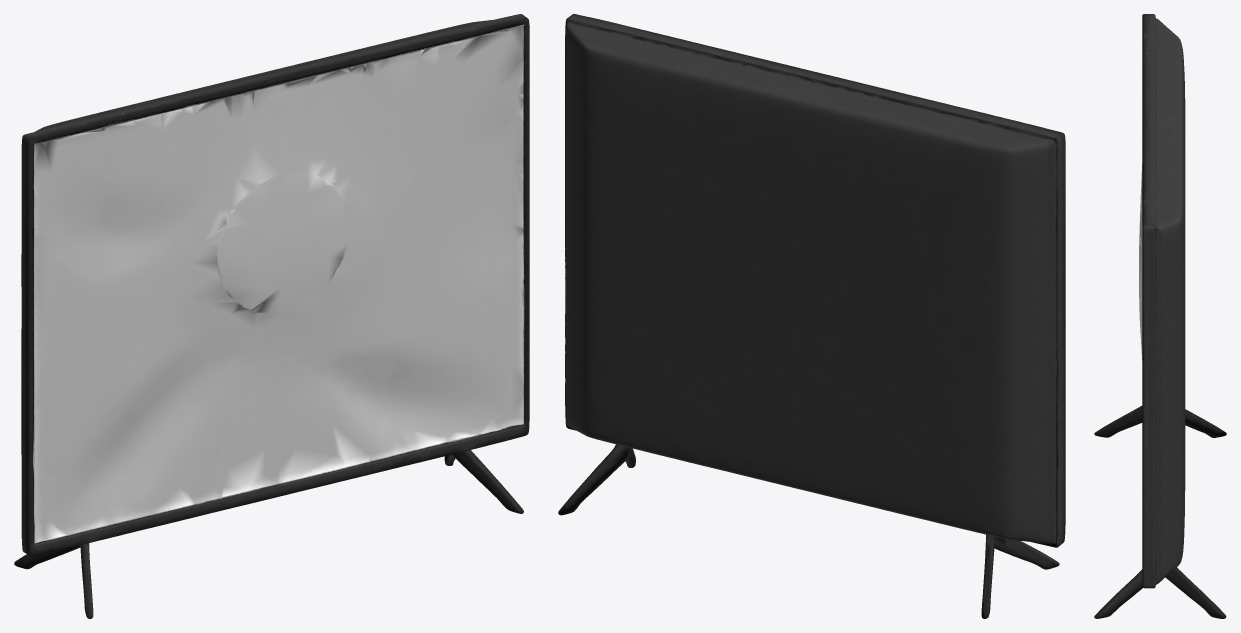
3 views of the same model, side by side, from view 1: azimuth 30°, elevation 25°; view 2: azimuth 150°, elevation 25°; view 3: azimuth 270°, elevation 25° (orthographic). The views are drawn at different scales.
Visible parts, largest first — view 1: tripo_node_81fa4829-a087-43a5-bfb8-536761eaf603; view 2: tripo_node_81fa4829-a087-43a5-bfb8-536761eaf603; view 3: tripo_node_81fa4829-a087-43a5-bfb8-536761eaf603.
Part boxes in pixels (<box>): tripo_node_81fa4829-a087-43a5-bfb8-536761eaf603: <box>14,14,529,618</box>; tripo_node_81fa4829-a087-43a5-bfb8-536761eaf603: <box>558,14,1065,618</box>; tripo_node_81fa4829-a087-43a5-bfb8-536761eaf603: <box>1094,14,1226,618</box>.
Size of the model in its own units: 0.981 by 0.8736 by 0.2572.
Materials: 1 (1 with a texture image).
